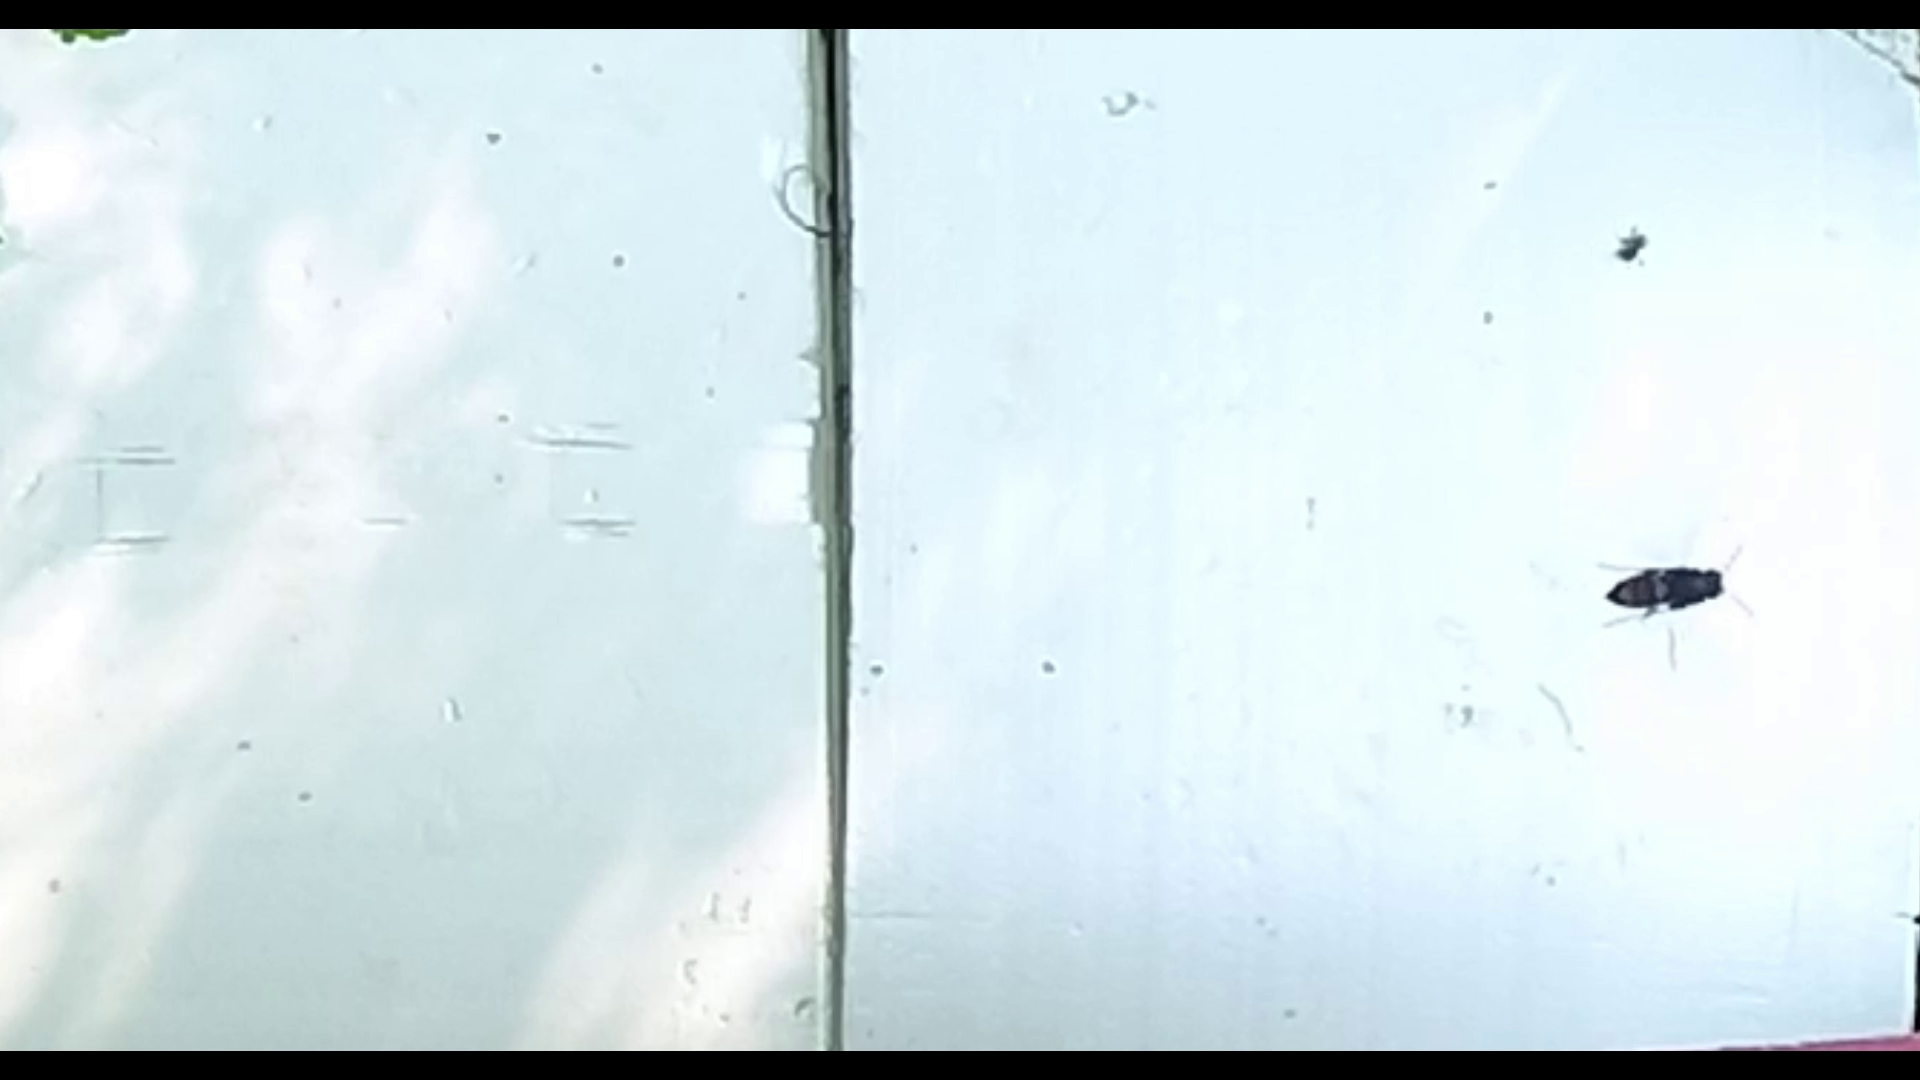Asian_hornets: (1576, 538, 1760, 666)
